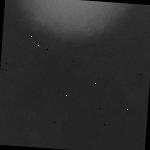colony: (1, 0, 133, 60)
